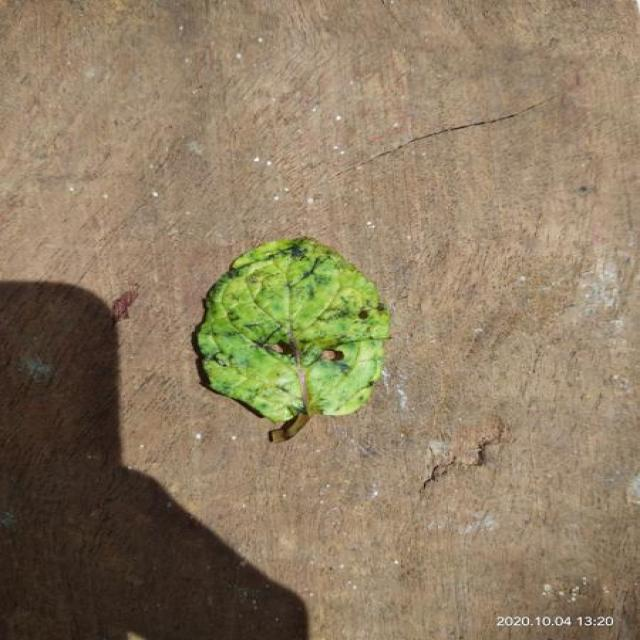mint: (197, 238, 390, 442)
